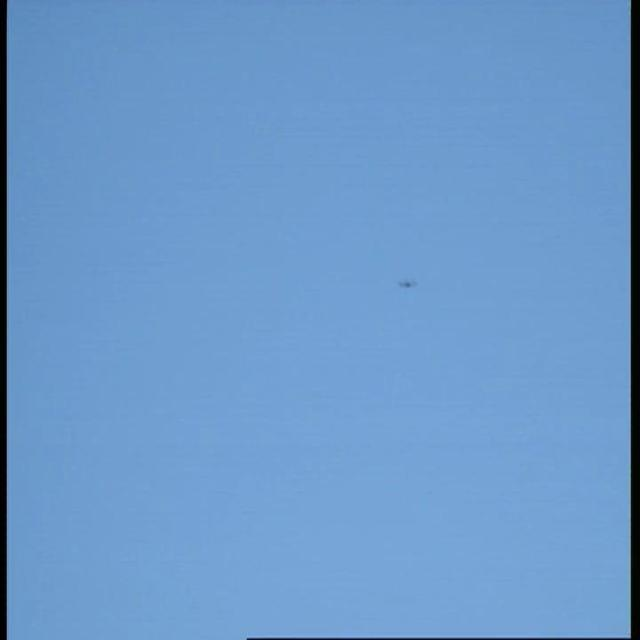drone: (394, 272, 424, 294)
